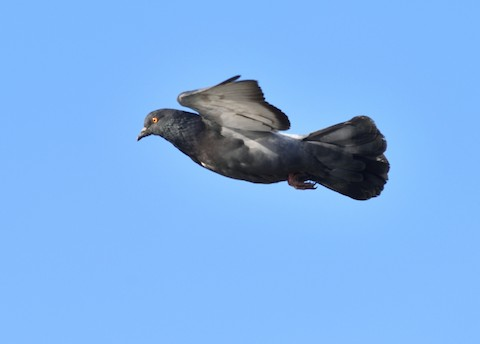pigeon: (127, 68, 394, 204)
